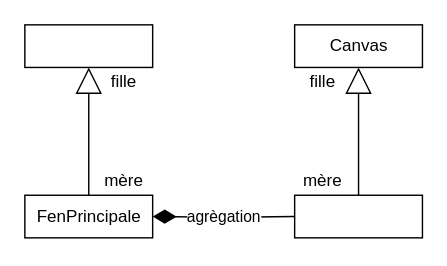
The diagram is 447 pixels wide and 266 high, and some of its shapes have lost their labels. Each missing label, with the centre of its shape:
"Tk" goes at point (88, 45).
"ZoneAffichage" goes at point (357, 216).
